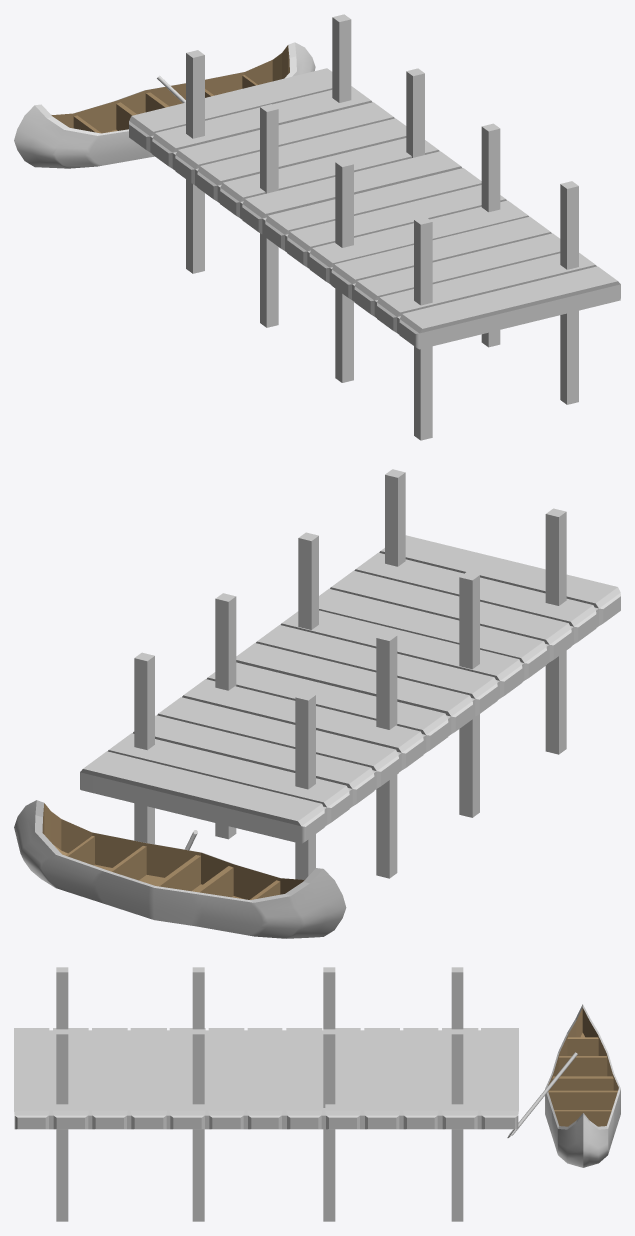
Rendered from Boat.fbx.
3 views of the same model, one above another, from view 1: azimuth 30°, elevation 25°; view 2: azimuth 150°, elevation 25°; view 3: azimuth 270°, elevation 25° (orthographic). The views are drawn at different scales.
Parts seen in each view (by area): view 1: pCube2, pCube1, pCube12, pCube9, pCube4, pCube3, pCube5, pCube6, pCube8, pCube7; view 2: pCube2, pCube1, pCube4, pCube12, pCube5, pCube8, pCube3, pCube7, pCube6, pCube9; view 3: pCube2, pCube1, pCube7, pCube6, pCube9, pCube8, pCube4, pCube5, pCube12, pCube3, pCylinder1.
Boxes of the visible parts, x1=… form: pCube2: x1=129, y1=68, x2=620, y2=349; pCube1: x1=14, y1=42, x2=315, y2=168; pCube12: x1=414, y1=217, x2=432, y2=440; pCube9: x1=560, y1=181, x2=578, y2=404; pCube4: x1=260, y1=104, x2=278, y2=327; pCube3: x1=186, y1=50, x2=204, y2=273; pCube5: x1=335, y1=159, x2=353, y2=382; pCube6: x1=481, y1=123, x2=500, y2=347; pCube8: x1=332, y1=14, x2=351, y2=102; pCube7: x1=406, y1=68, x2=424, y2=157; pCube2: x1=80, y1=535, x2=620, y2=843; pCube1: x1=14, y1=800, x2=346, y2=938; pCube4: x1=376, y1=632, x2=397, y2=878; pCube12: x1=545, y1=508, x2=566, y2=754; pCube5: x1=459, y1=571, x2=479, y2=817; pCube8: x1=134, y1=652, x2=154, y2=844; pCube3: x1=295, y1=692, x2=315, y2=879; pCube7: x1=215, y1=593, x2=236, y2=839; pCube6: x1=298, y1=532, x2=318, y2=629; pCube9: x1=385, y1=469, x2=405, y2=566; pCube2: x1=14, y1=1028, x2=518, y2=1129; pCube1: x1=545, y1=1004, x2=620, y2=1167; pCube7: x1=323, y1=1029, x2=335, y2=1221; pCube6: x1=192, y1=1029, x2=204, y2=1221; pCube9: x1=56, y1=1029, x2=68, y2=1221; pCube8: x1=451, y1=1029, x2=463, y2=1221; pCube4: x1=323, y1=967, x2=335, y2=1029; pCube5: x1=192, y1=967, x2=204, y2=1029; pCube12: x1=56, y1=967, x2=68, y2=1029; pCube3: x1=451, y1=967, x2=463, y2=1029; pCylinder1: x1=507, y1=1052, x2=577, y2=1137.
Size of the model in its own units: 25.27 by 17.28 by 50.72.
